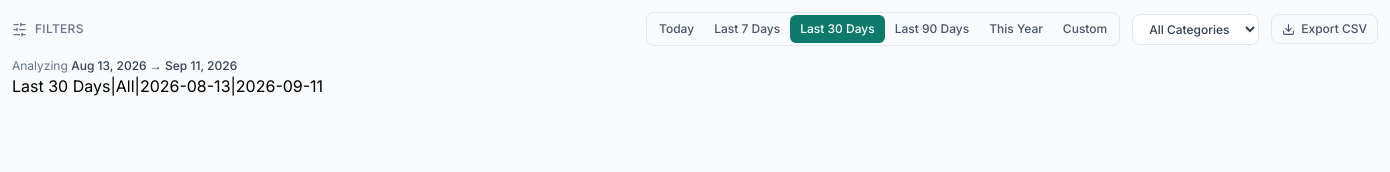
it: Filter interaction › selecting a category updates filter state (the same state analytics requests read from)
Select "Electronics" in the dropdown named "category" at [1196, 29], box [1132,14,1259,44]
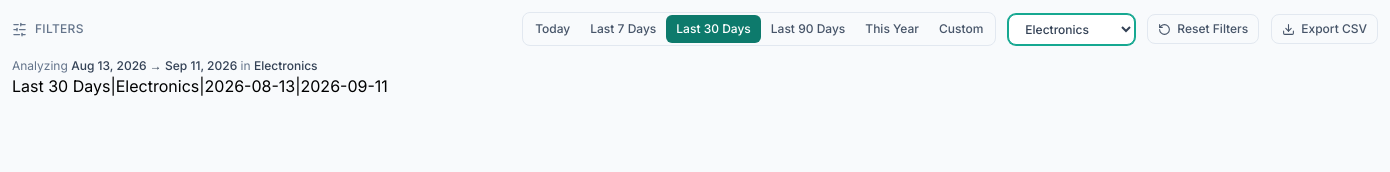
Now the text with test id "state" shows "Electronics", box [116,76,199,96]
